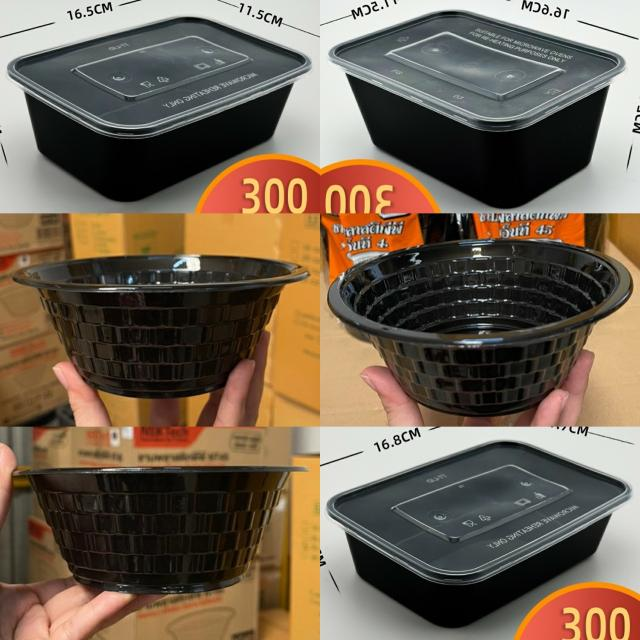plastik: (329, 11, 625, 208), (327, 441, 630, 628), (8, 18, 311, 201), (328, 240, 632, 416), (14, 255, 309, 399), (23, 466, 298, 594)
